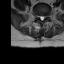CCS_stenosis: (41, 14, 43, 22)
LFS_stenosis: (45, 14, 47, 19)
LLS_normal: (43, 14, 45, 21)
RFS_stenosis: (37, 14, 39, 19)
RLS_normal: (39, 14, 41, 21)
